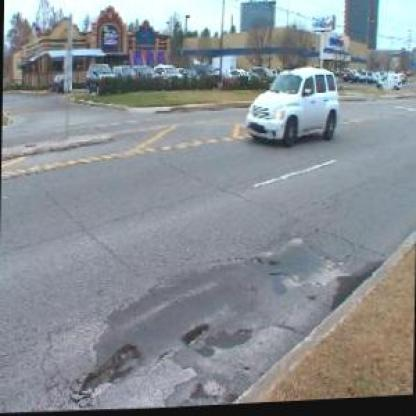pothole: (79, 340, 141, 399), (182, 320, 209, 347), (250, 254, 262, 269), (268, 258, 280, 269)
